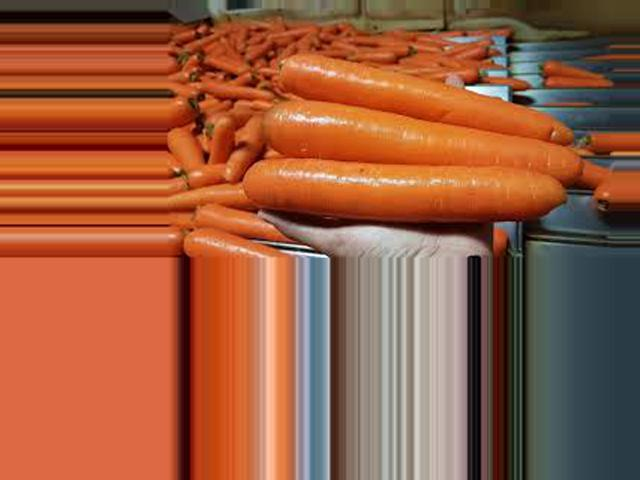carrot: (238, 140, 574, 218)
